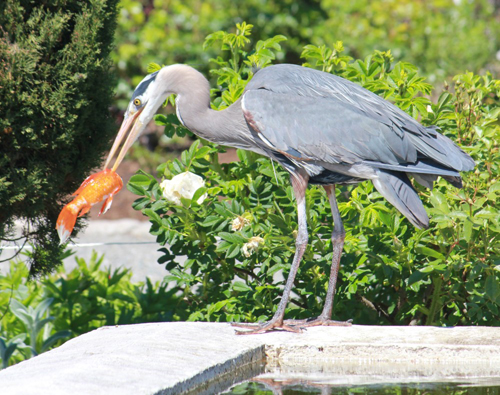heron: (47, 56, 480, 353)
